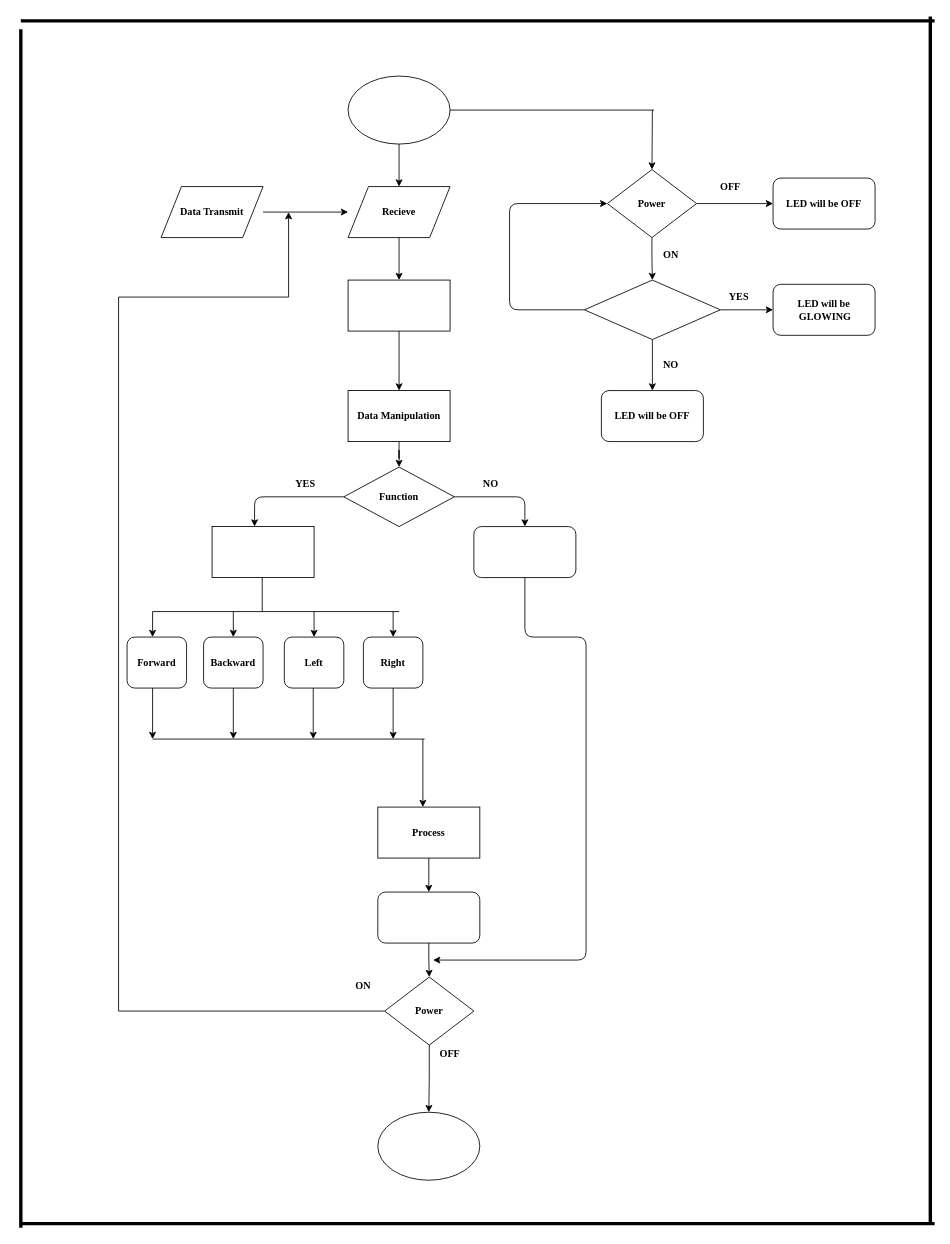
The diagram is 950 pixels wide and 1244 high, and some of its shapes have lost their labels. The shapes that lost their labels are listed below. From the top down, each one's box as (x1, y1, x2, y2) in pixels, then its label:
(347, 75, 450, 144): START
(347, 279, 450, 331): Decode
(584, 279, 720, 340): Intensity of light > Threshold?
(211, 526, 314, 578): Movement
(473, 526, 576, 578): Do Nothing
(377, 891, 480, 943): Execute
(377, 1111, 480, 1180): FINISH
